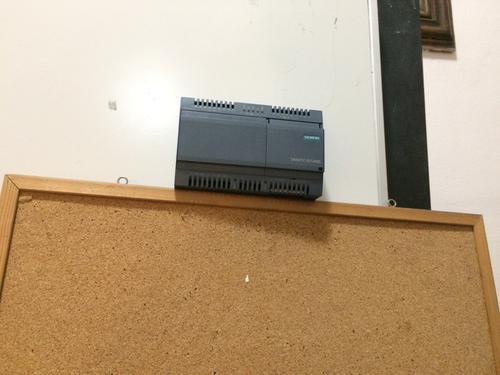iot2000: (174, 96, 325, 200)
